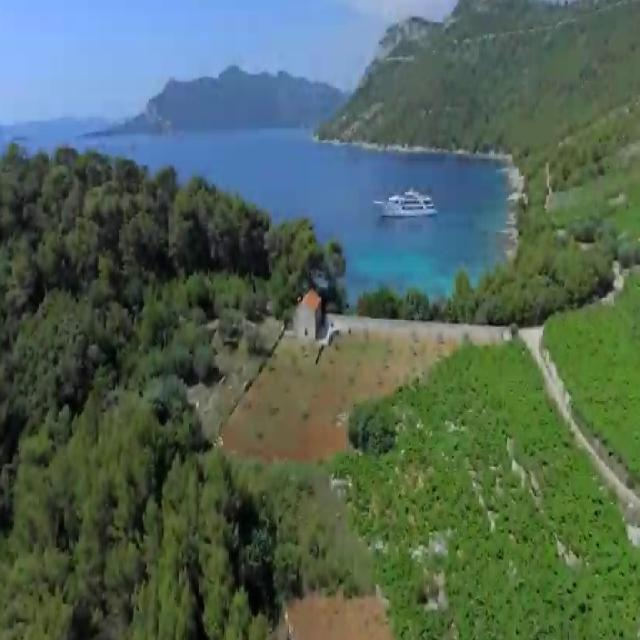passenger ship: (374, 181, 436, 222)
